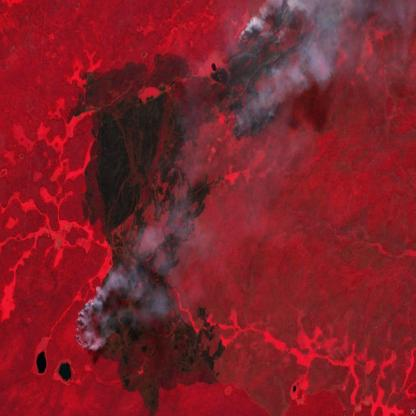fire: (222, 0, 352, 145), (68, 293, 113, 361)
